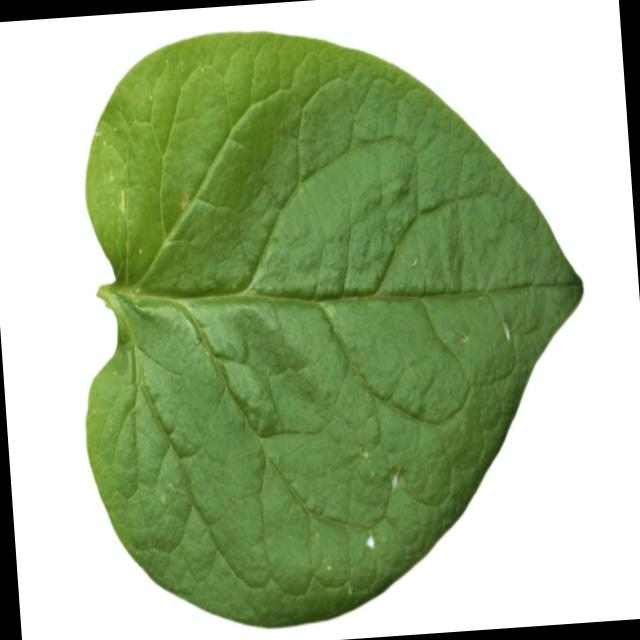Medicinal-Basale: (57, 6, 598, 639)
